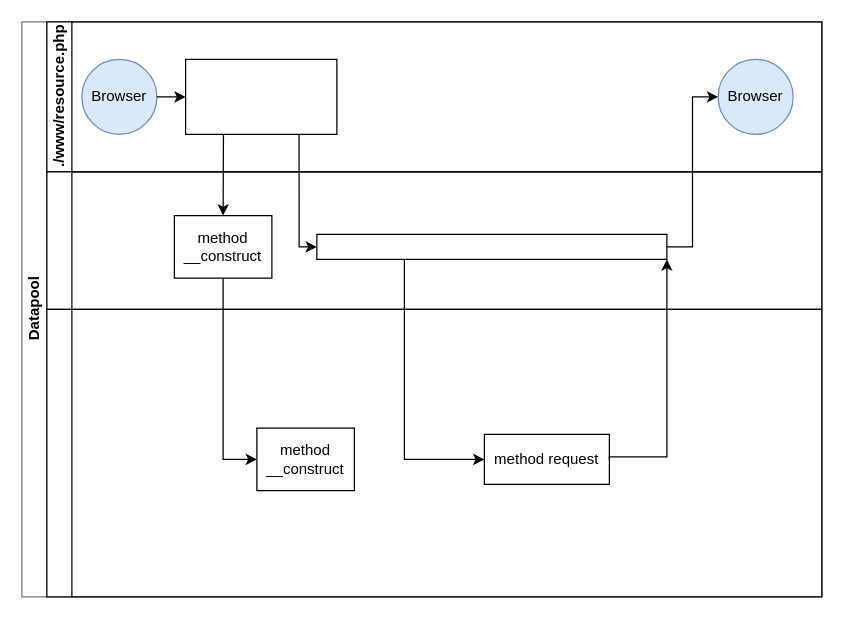
Some shapes in this 844 by 619 pixel diagram are drawn without their labels. The shapes that lost their labels are listed below. From the top down, each one's box as (x1, y1, x2, y2) in pixels, then its label:
(184, 58, 337, 134): Creates instance of Root
(46, 171, 822, 309): ./php/Root.php
(316, 233, 667, 259): method run
(46, 308, 822, 597): ../php/Foundation/ClientAccess.php
